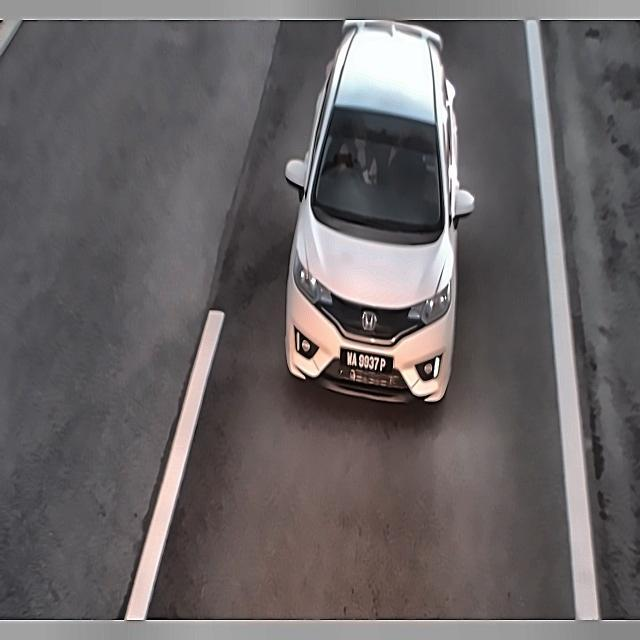car: (337, 342, 396, 380)
